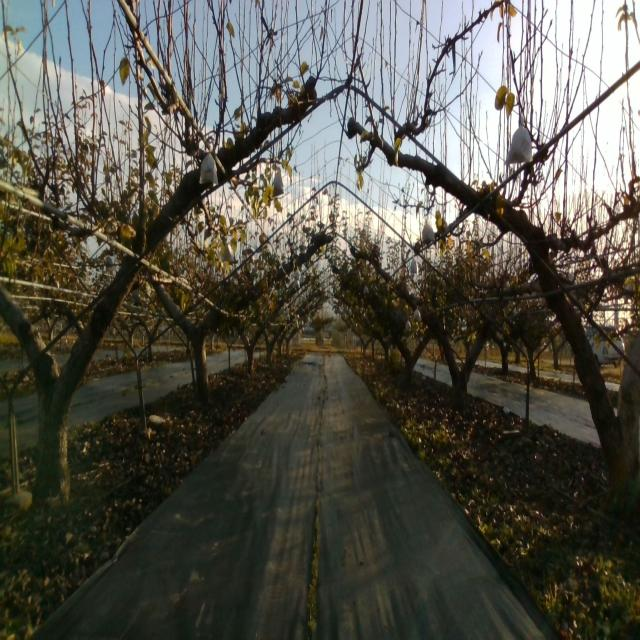pearbags: (503, 116, 534, 166), (199, 144, 219, 187), (272, 170, 284, 198), (221, 243, 235, 264), (423, 219, 435, 243)
